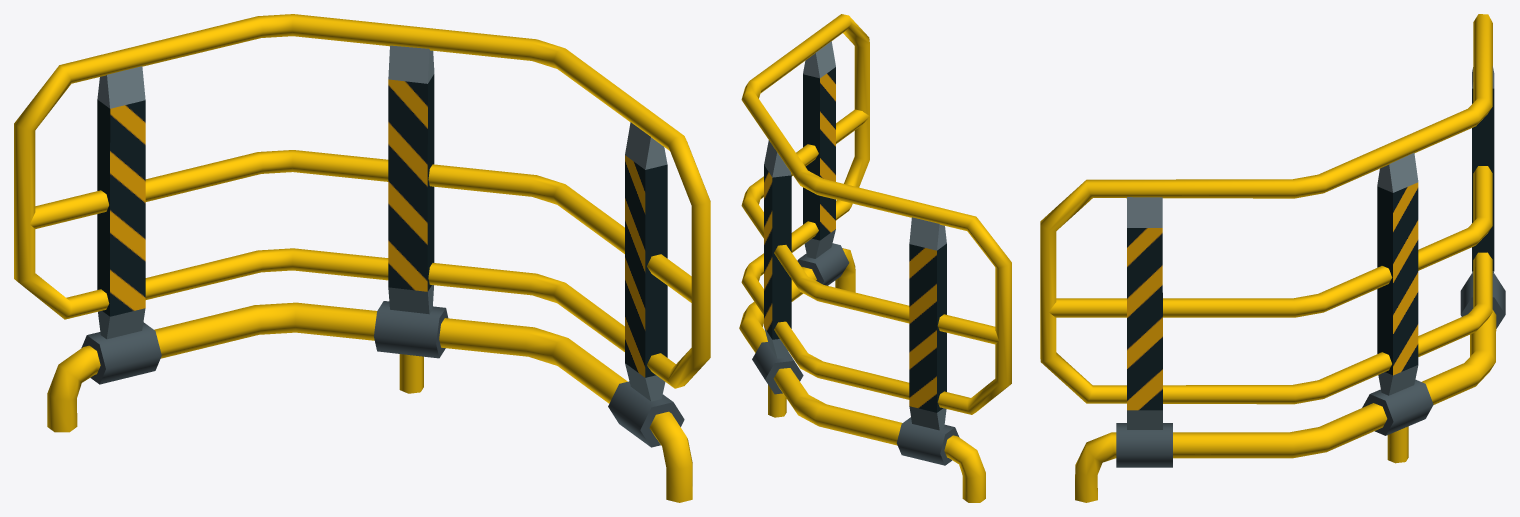
Rendered from Fence_type_C_006.fbx.
The picture shows the model from 3 angles, left to right: view 1: azimuth 30°, elevation 25°; view 2: azimuth 150°, elevation 25°; view 3: azimuth 270°, elevation 25°; orthographic projection. The views are drawn at different scales.
Parts seen in each view (by area): view 1: Fence_type_C_006; view 2: Fence_type_C_006; view 3: Fence_type_C_006.
Part boxes in pixels (x1,y1,x2,y2): Fence_type_C_006: [14, 14, 710, 502]; Fence_type_C_006: [739, 14, 1011, 502]; Fence_type_C_006: [1040, 14, 1505, 502].
Size of the model in its own units: 190 by 190 by 143.
